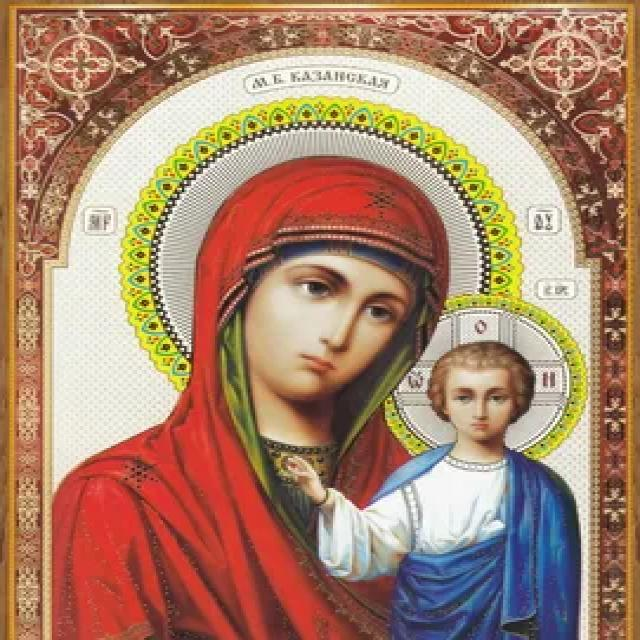mother of god: (47, 143, 594, 640)
